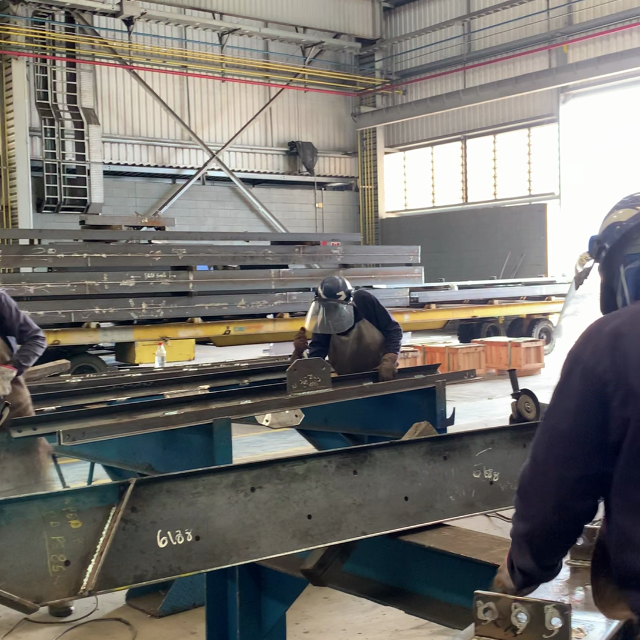face-shield: (553, 256, 600, 338), (304, 300, 356, 335)
glove: (486, 568, 518, 600), (375, 354, 402, 380), (2, 375, 17, 389)
helmet: (598, 188, 635, 229), (314, 275, 358, 301)
person: (488, 193, 637, 592), (291, 276, 401, 390), (3, 285, 52, 399)
